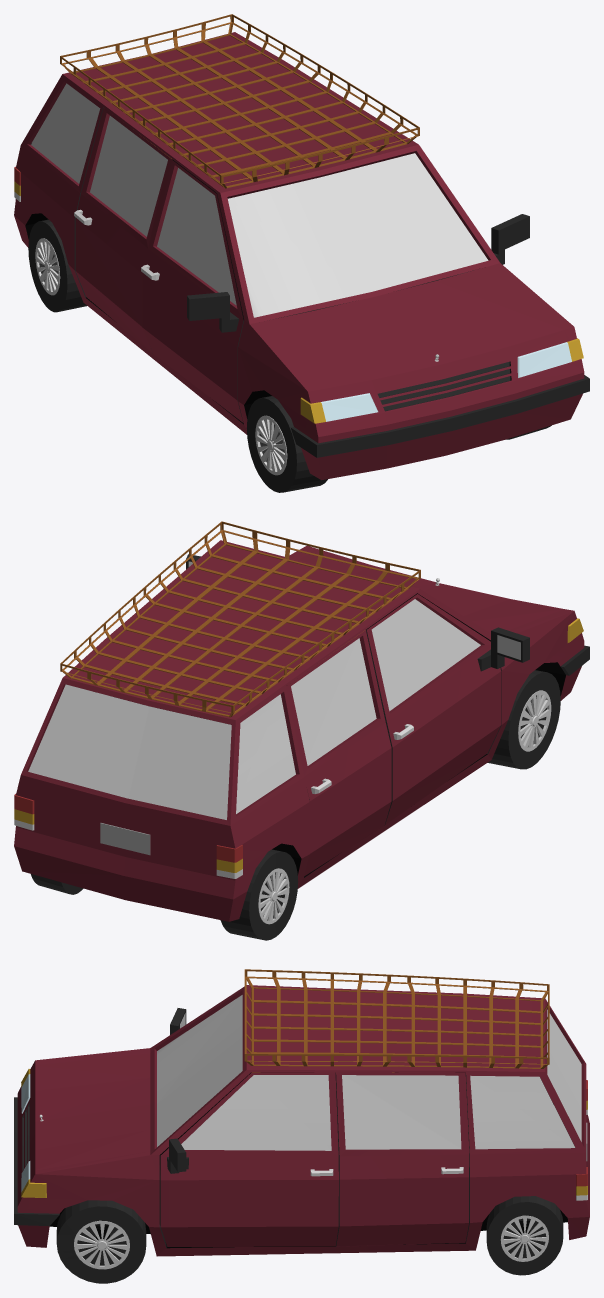
Rendered from La_Voiture.fbx.
The picture shows the model from 3 angles, top to bottom: view 1: azimuth 30°, elevation 25°; view 2: azimuth 150°, elevation 25°; view 3: azimuth 270°, elevation 25°; orthographic projection. The views are drawn at different scales.
Parts seen in each view (by area): view 1: La_Voiture; view 2: La_Voiture; view 3: La_Voiture.
Part boxes in pixels (x1,y1,x2,y2): La_Voiture: [14, 14, 589, 492]; La_Voiture: [14, 521, 589, 940]; La_Voiture: [14, 969, 589, 1283].
Size of the model in its own units: 112 by 78.24 by 188.
1 material, 1 textured.
